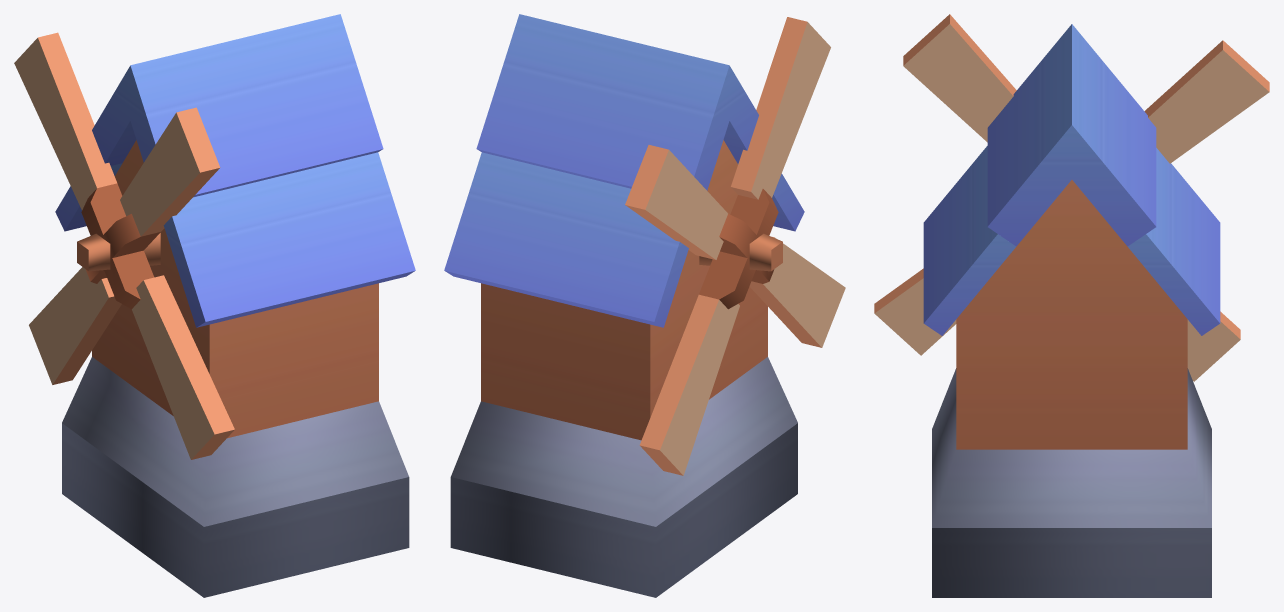
Rendered from kenney-hexagon-unit-mill.glb.
3 renders of one model, left to right at view 1: azimuth 30°, elevation 25°; view 2: azimuth 150°, elevation 25°; view 3: azimuth 270°, elevation 25°, orthographic.
Parts seen in each view (by area): view 1: unit_mill, rotate_x; view 2: unit_mill, rotate_x; view 3: unit_mill, rotate_x.
Boxes of the visible parts, x1,y1,x2,y2 form: unit_mill: (55,14,415,597); rotate_x: (14,32,234,459); unit_mill: (444,14,804,597); rotate_x: (625,17,845,475); unit_mill: (923,24,1220,597); rotate_x: (874,14,1269,381).
Bounding box in the file's own units: 0.38 × 0.6811 × 0.5121.
1 material, 1 textured.
